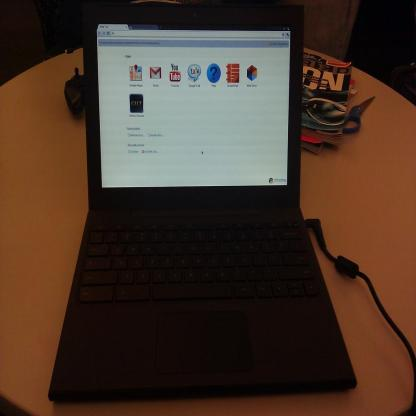board: (47, 2, 358, 400), (48, 3, 357, 399)
